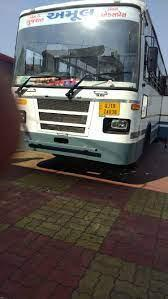Bus: (12, 0, 168, 170)
